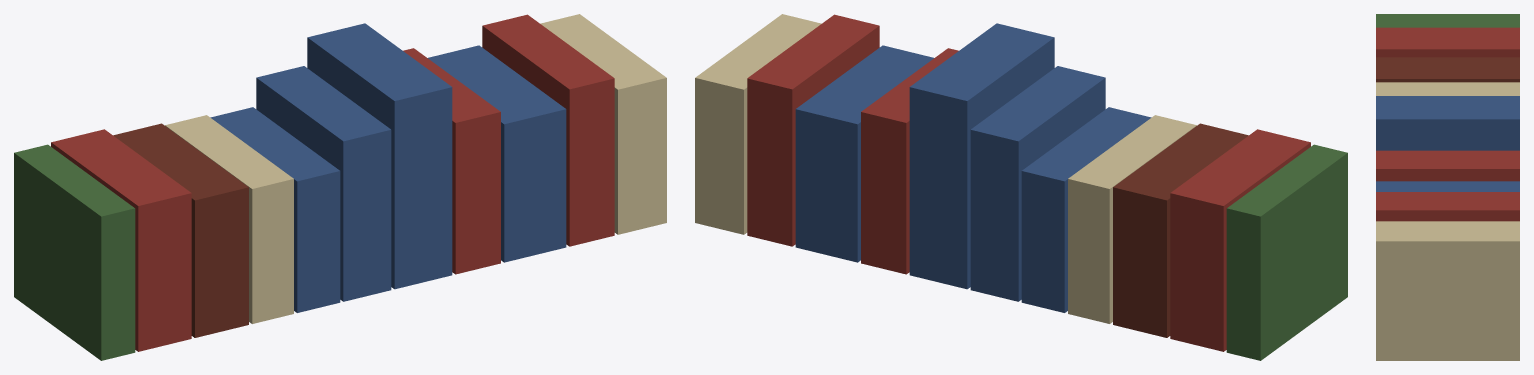
The model's file is SM_Prop_Book_Group_01.glb.
3 views of the same model, side by side, from view 1: azimuth 30°, elevation 25°; view 2: azimuth 150°, elevation 25°; view 3: azimuth 270°, elevation 25° (orthographic). The views are drawn at different scales.
Visible parts, largest first — view 1: SM_Prop_Book_Group_01; view 2: SM_Prop_Book_Group_01; view 3: SM_Prop_Book_Group_01.
Part boxes in pixels (<box>): SM_Prop_Book_Group_01: <box>14,14,666,360</box>; SM_Prop_Book_Group_01: <box>695,14,1347,360</box>; SM_Prop_Book_Group_01: <box>1376,14,1519,360</box>.
Bounding box in the file's own units: 0.8988 × 0.2858 × 0.24.
1 material, 1 textured.
